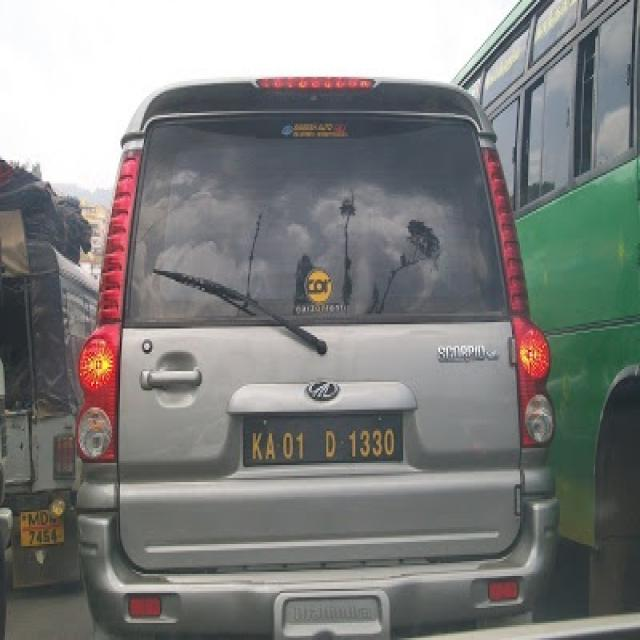number_plate: (243, 416, 400, 461)
